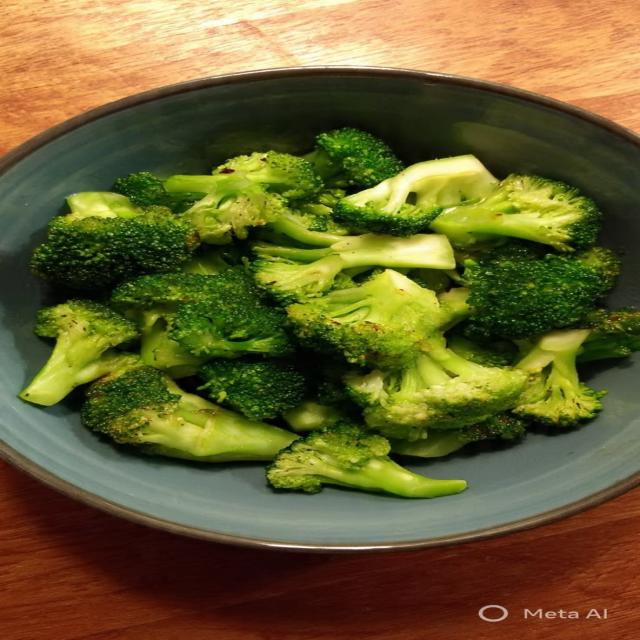broccoli: (81, 366, 296, 462), (111, 267, 291, 376), (346, 335, 528, 440), (31, 192, 199, 289), (287, 270, 444, 369), (267, 422, 466, 498), (251, 234, 455, 303), (463, 248, 617, 339), (334, 155, 498, 235), (431, 174, 601, 251), (20, 299, 138, 406), (169, 267, 293, 359), (110, 272, 214, 377), (513, 329, 606, 428), (165, 171, 286, 244), (199, 357, 306, 420), (283, 351, 360, 432), (390, 412, 527, 457), (304, 127, 404, 187), (214, 151, 323, 199), (113, 172, 203, 213), (577, 308, 639, 362), (265, 211, 348, 247), (447, 329, 519, 366)
